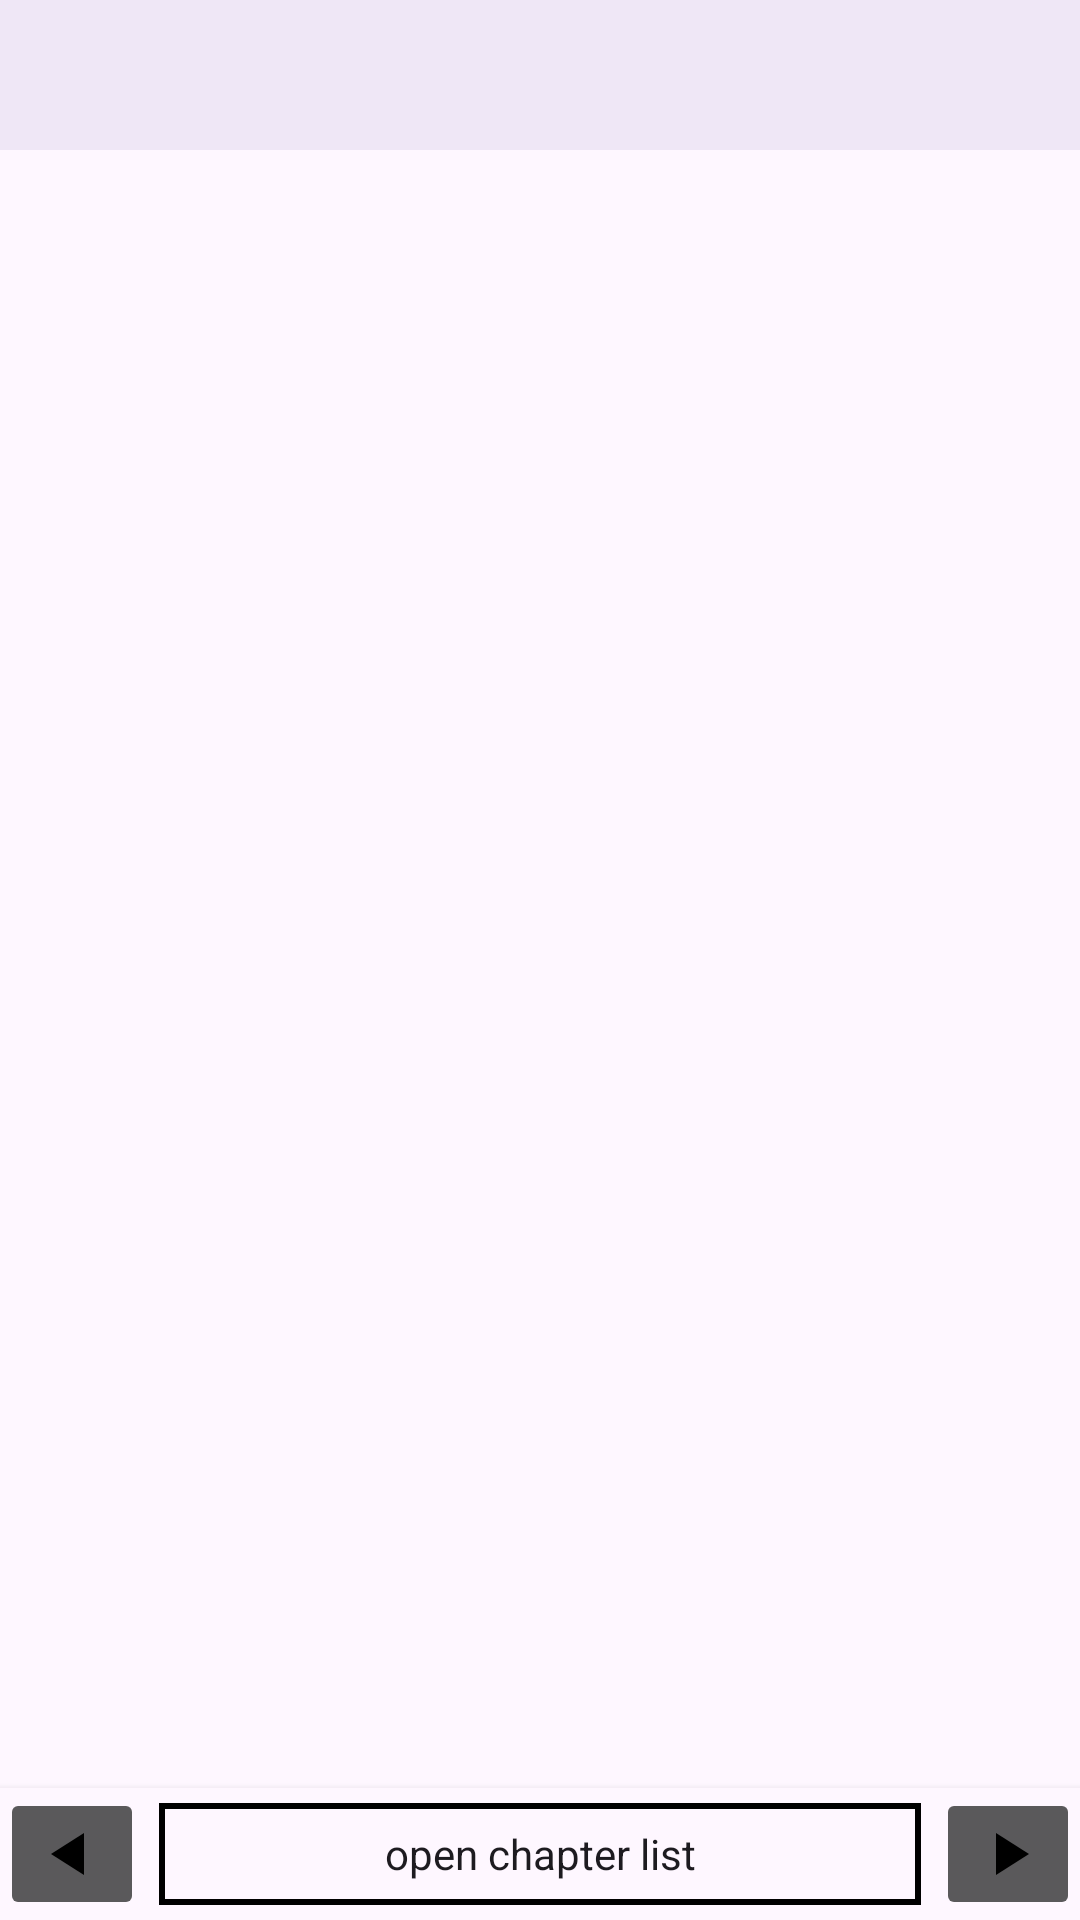

Point at icon controls on the screen. Image size 1080 x 1920, points as point (x, y).
next chapter: point (1008, 1854)
previous chapter: point (72, 1854)
